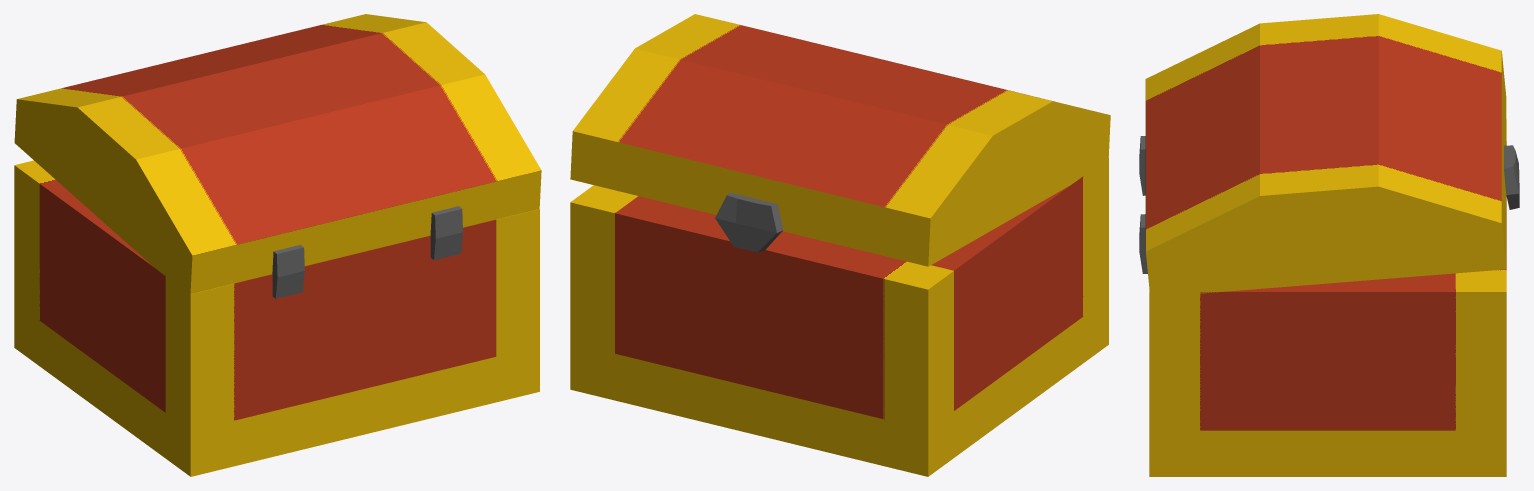
File: chest.gltf
The picture shows the model from 3 angles, left to right: view 1: azimuth 30°, elevation 25°; view 2: azimuth 150°, elevation 25°; view 3: azimuth 270°, elevation 25°; orthographic projection. The views are drawn at different scales.
Visible parts, largest first — view 1: тело сундука, крышка, заклёпки на крышке (×2); view 2: тело сундука, крышка, заклёпки на крышке спереди; view 3: крышка, тело сундука, заклёпки на крышке спереди.
Part boxes in pixels (bbox=[...]): тело сундука: bbox=[14, 160, 539, 476]; крышка: bbox=[14, 14, 541, 295]; заклёпки на крышке (×2): bbox=[272, 206, 462, 298]; тело сундука: bbox=[570, 157, 1108, 476]; крышка: bbox=[570, 14, 1110, 266]; заклёпки на крышке спереди: bbox=[715, 192, 783, 252]; крышка: bbox=[1145, 14, 1506, 297]; тело сундука: bbox=[1149, 119, 1506, 476]; заклёпки на крышке спереди: bbox=[1504, 145, 1519, 209].
Bounding box in the file's own units: 1 × 0.7845 × 0.932.
Materials: 4 (4 with a texture image).
